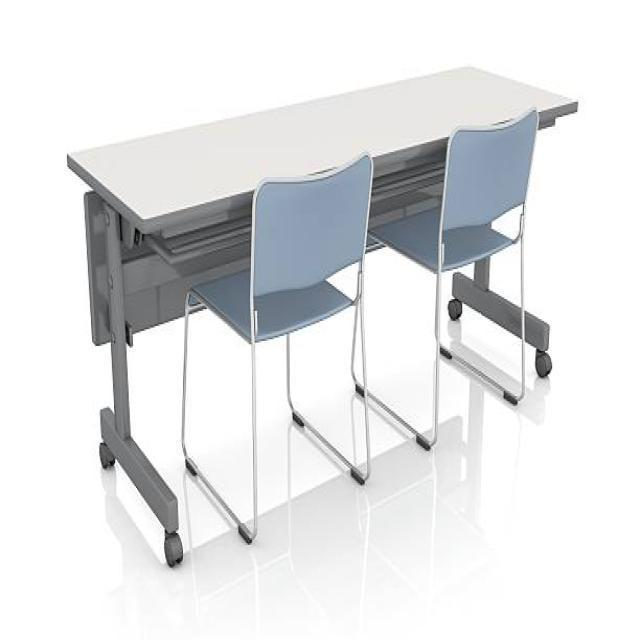table: (66, 62, 578, 565)
